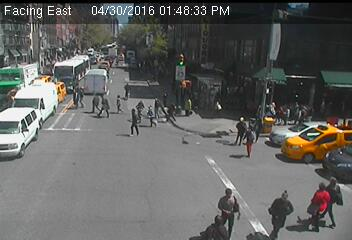neg: (117, 78, 136, 102), (127, 50, 139, 66)
pos: (264, 188, 302, 239), (304, 181, 337, 225), (318, 172, 350, 215), (214, 185, 240, 220), (230, 115, 253, 146), (237, 128, 260, 158), (124, 107, 144, 134), (210, 213, 228, 237), (95, 93, 111, 115), (143, 105, 158, 125), (110, 92, 125, 112), (86, 93, 100, 112), (68, 87, 81, 104), (77, 85, 88, 101)
